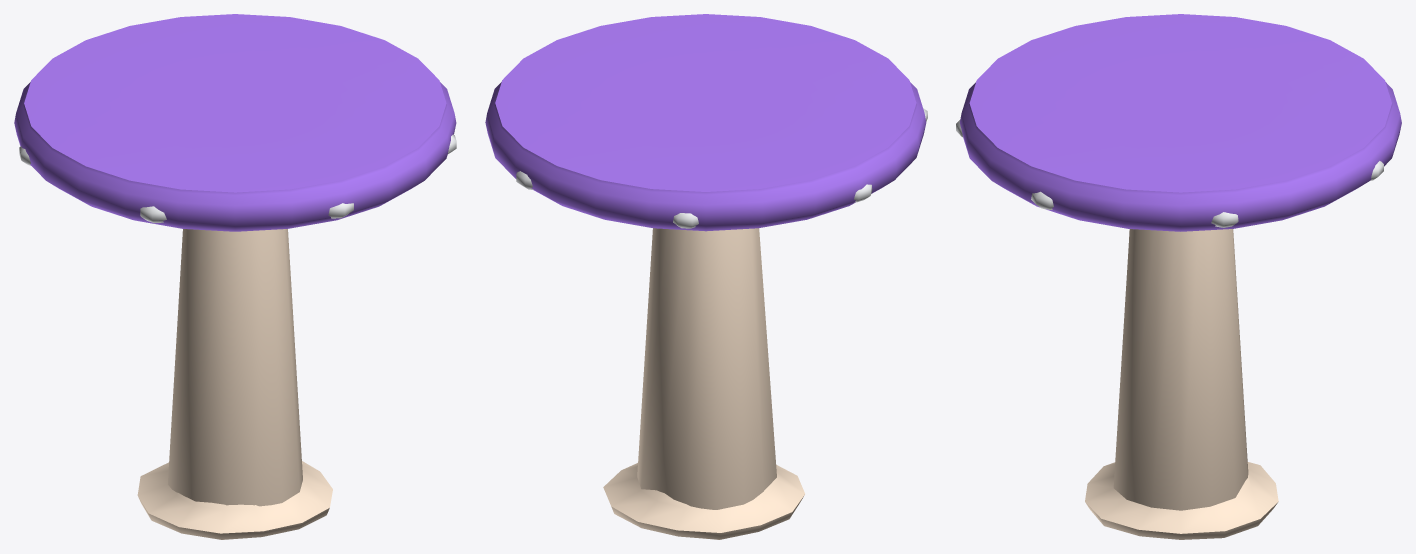
Rendered from HongoPlataformaMediano.fbx.
The picture shows the model from 3 angles, left to right: view 1: azimuth 30°, elevation 25°; view 2: azimuth 150°, elevation 25°; view 3: azimuth 270°, elevation 25°; orthographic projection.
Visible parts, largest first — view 1: HongoPlataformaMediano_Sombrero, HongoPlataformaMediano_Pie, HongoPlataformaMediano_Lunares; view 2: HongoPlataformaMediano_Sombrero, HongoPlataformaMediano_Pie, HongoPlataformaMediano_Lunares; view 3: HongoPlataformaMediano_Sombrero, HongoPlataformaMediano_Pie, HongoPlataformaMediano_Lunares.
Boxes of the visible parts, x1,y1,x2,y2 form: HongoPlataformaMediano_Sombrero: (14, 14, 456, 231); HongoPlataformaMediano_Pie: (137, 229, 332, 539); HongoPlataformaMediano_Lunares: (19, 134, 456, 223); HongoPlataformaMediano_Sombrero: (485, 14, 926, 231); HongoPlataformaMediano_Pie: (603, 228, 804, 539); HongoPlataformaMediano_Lunares: (516, 108, 927, 228); HongoPlataformaMediano_Sombrero: (960, 14, 1401, 231); HongoPlataformaMediano_Pie: (1085, 229, 1278, 539); HongoPlataformaMediano_Lunares: (956, 120, 1383, 227).
Bounding box in the file's own units: 7 × 7 × 7.06.
